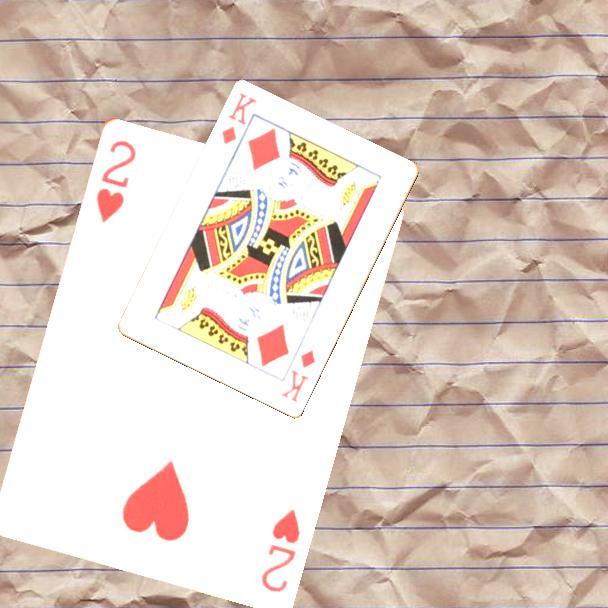d13: (218, 89, 260, 148), (278, 347, 318, 406)
h02: (92, 136, 139, 225), (257, 505, 303, 595)
